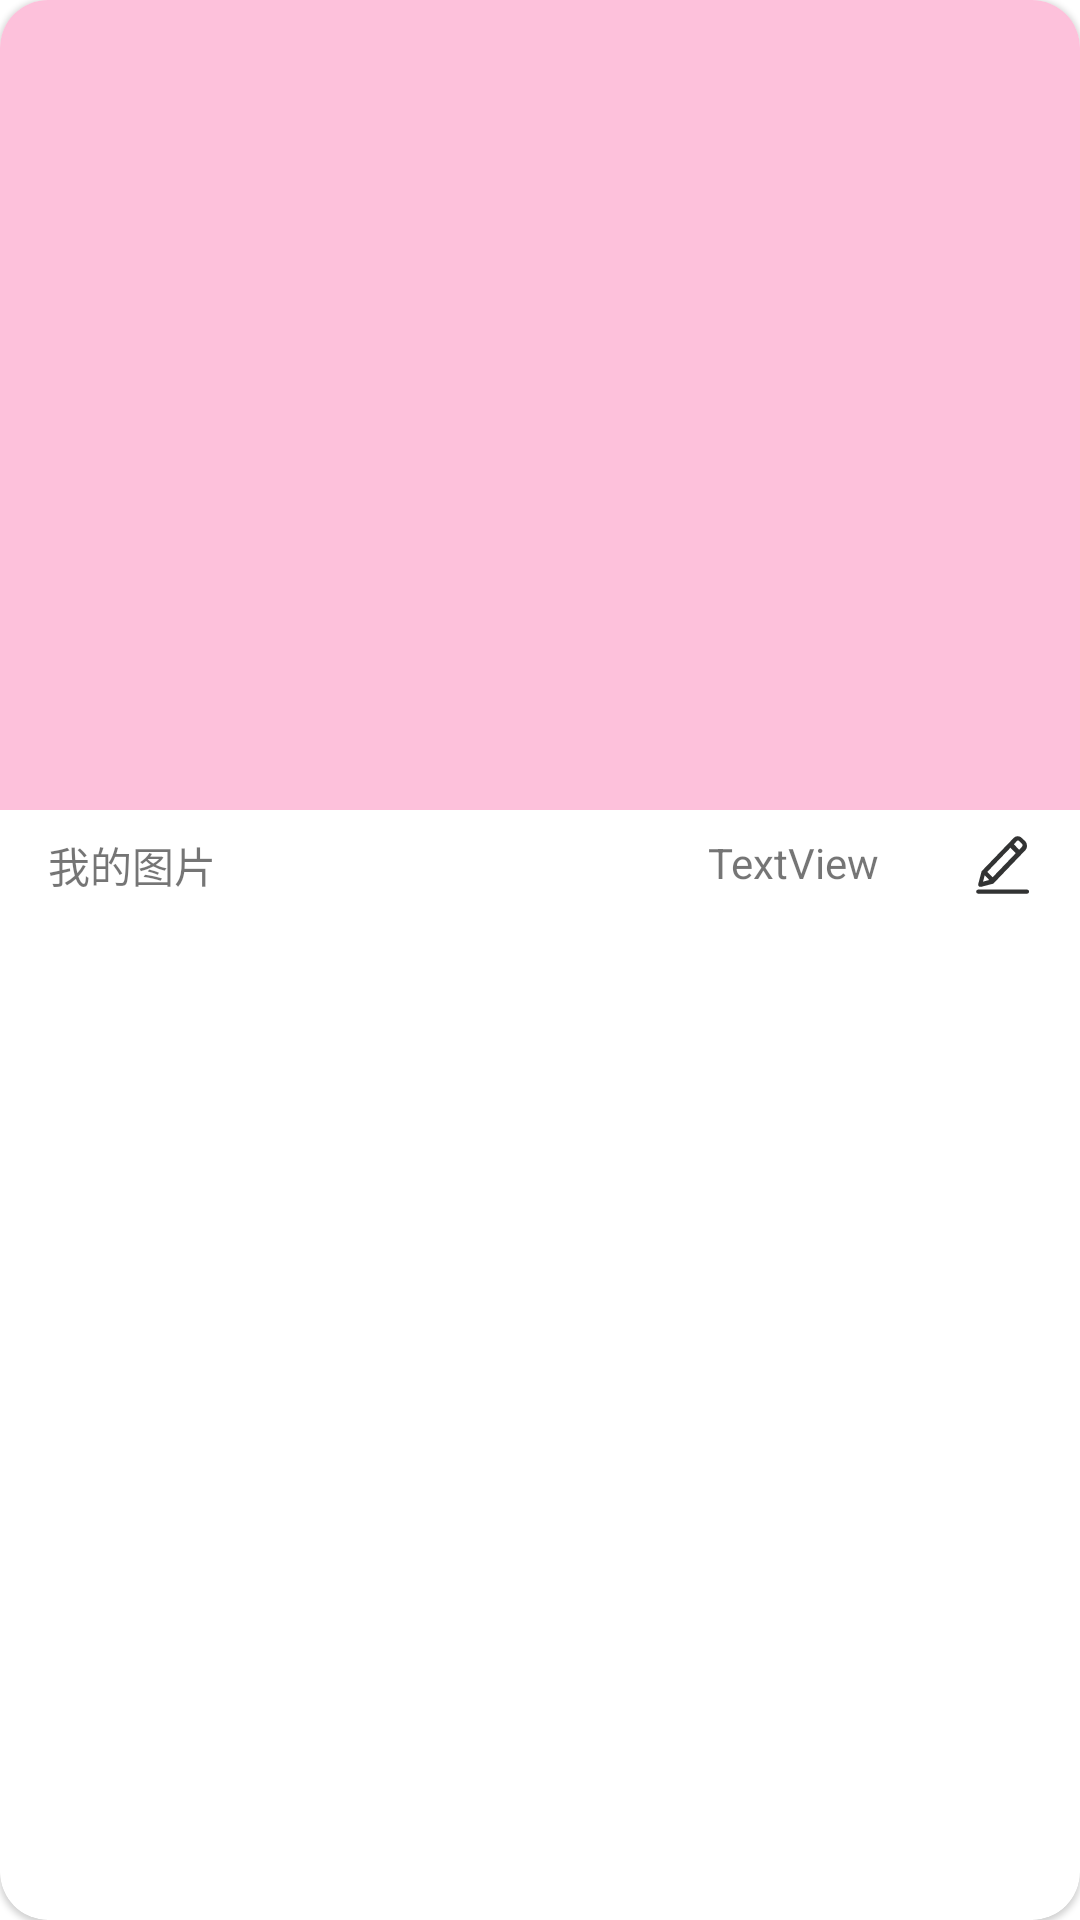

Named icons in this screenshot (1080 x 1920) and their centers, point (x, y):
rename: point (1002, 865)
